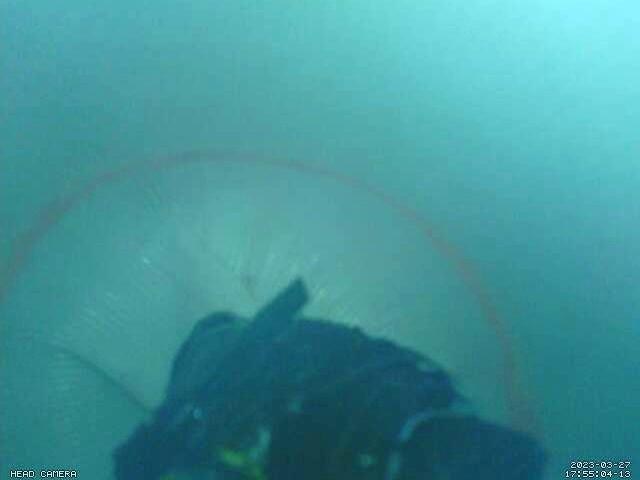head: (1, 151, 545, 449)
